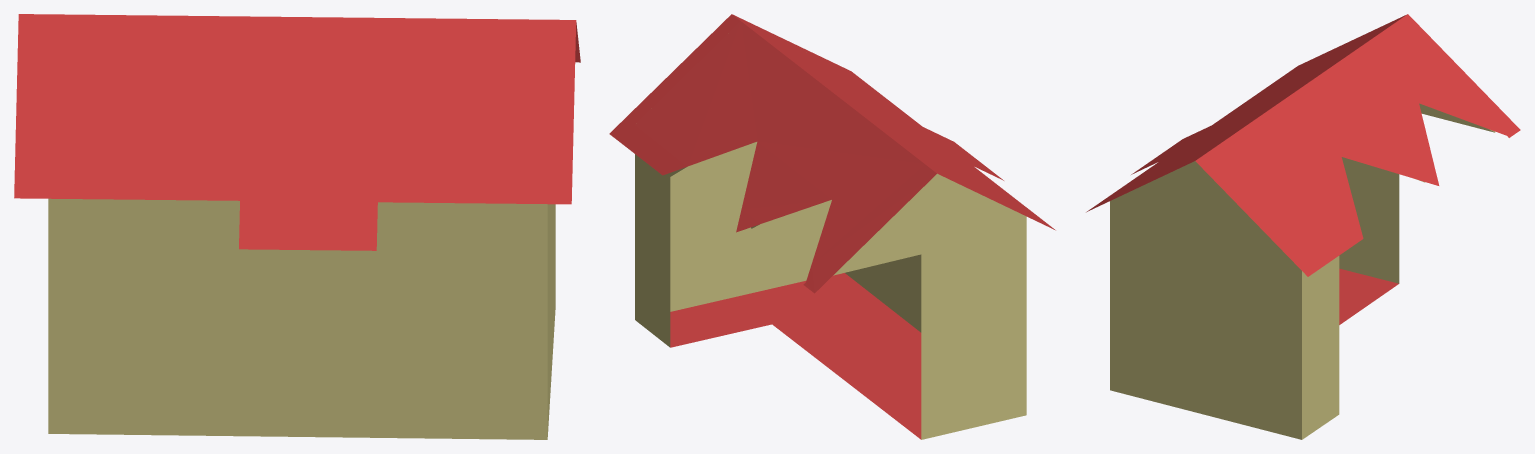
The picture shows the model from 3 angles, left to right: view 1: azimuth 30°, elevation 25°; view 2: azimuth 150°, elevation 25°; view 3: azimuth 270°, elevation 25°; orthographic projection. The views are drawn at different scales.
Size of the model in its own units: 26.8 by 24.11 by 15.9.
